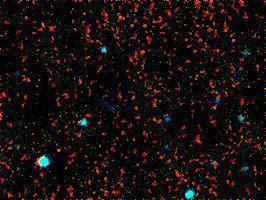star: (184, 125, 214, 155)
